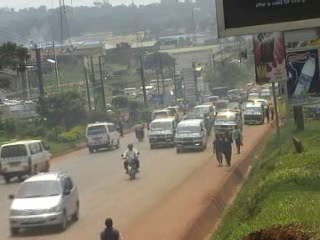Car: (7, 168, 82, 234)
Motorcycle: (119, 142, 141, 181), (132, 120, 145, 144)
